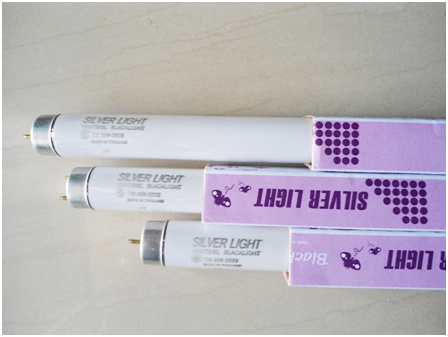Light_bulb: (20, 111, 314, 166), (124, 219, 290, 277), (54, 164, 208, 220)
